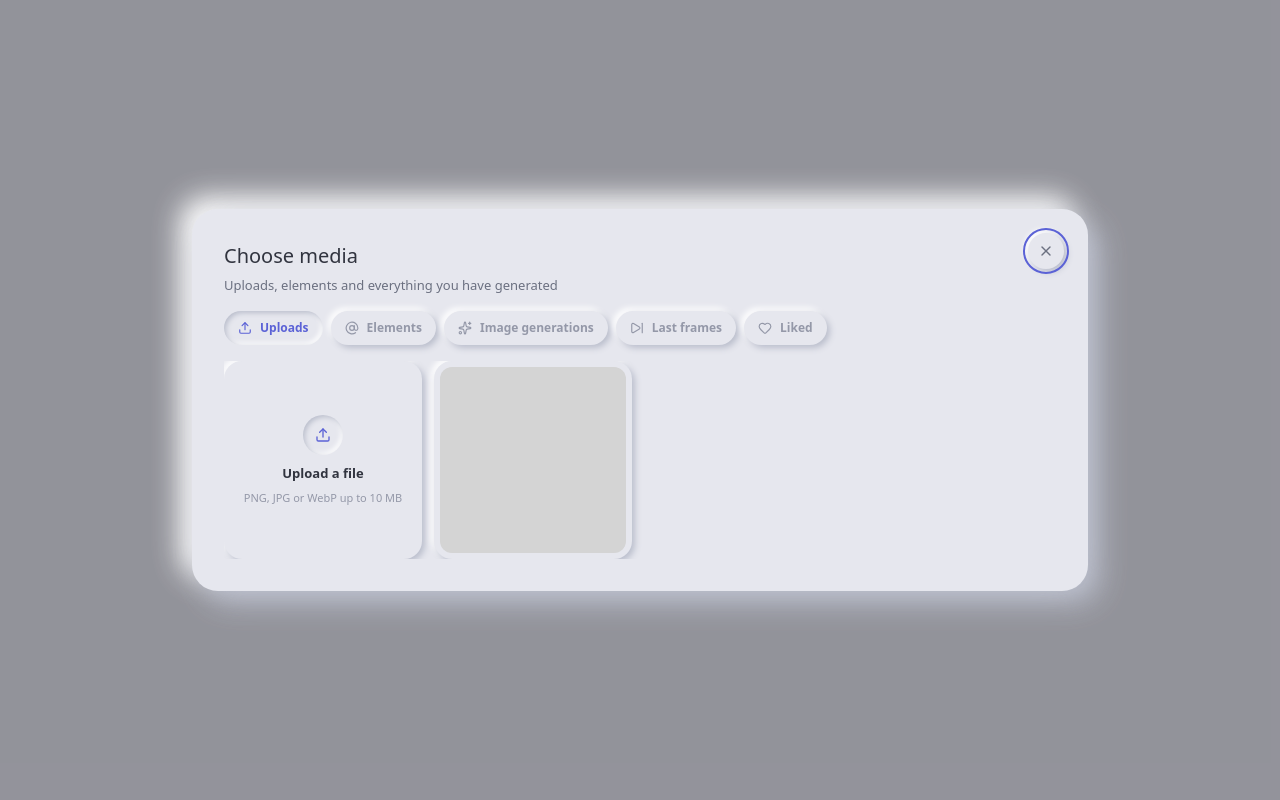
it: MediaPicker › says the library failed instead of showing it as empty
The image size is (1280, 800).
Click the tab "Image generations" at (526, 328), box [444,311,608,345]
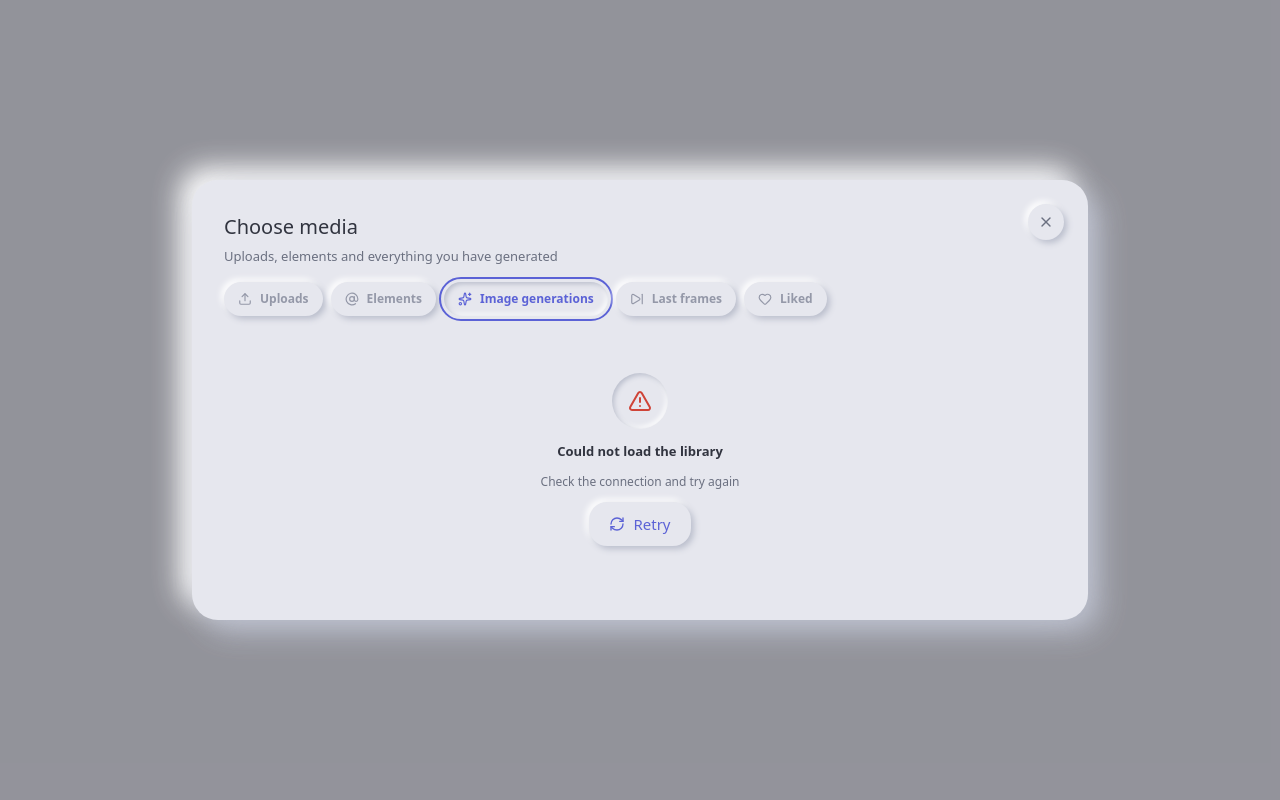
Expected: the text "Could not load the library" is shown, [557,441,723,461]
